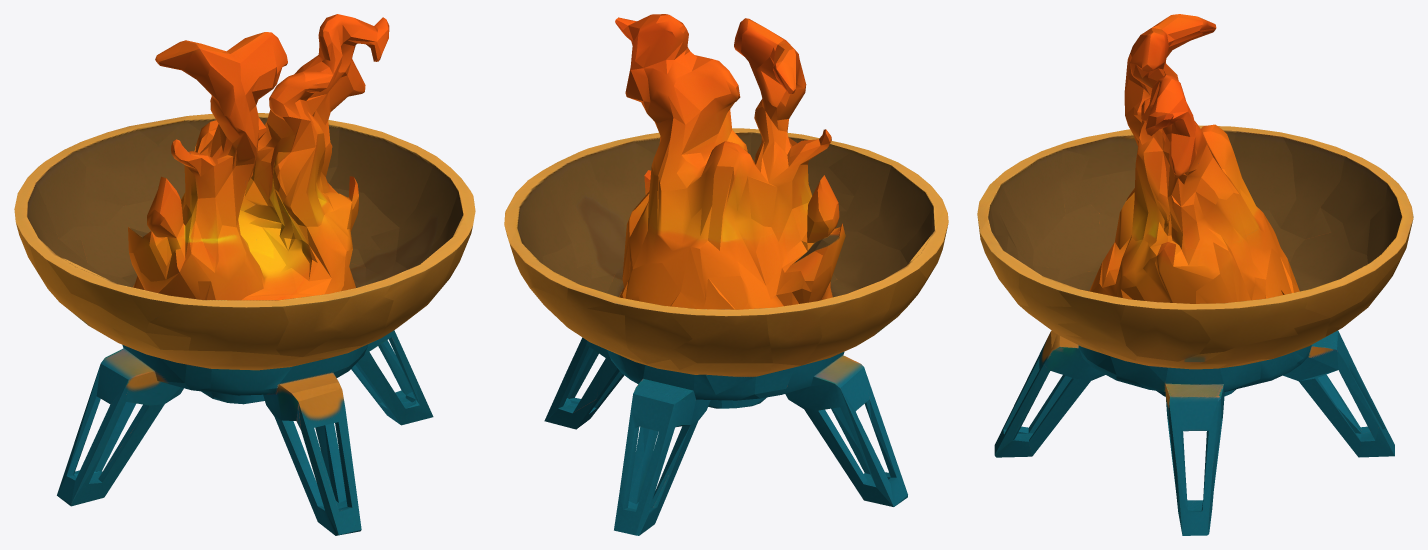
The model's file is brazier.glb.
3 renders of one model, left to right at view 1: azimuth 30°, elevation 25°; view 2: azimuth 150°, elevation 25°; view 3: azimuth 270°, elevation 25°, orthographic. The views are drawn at different scales.
Bounding box in the file's own units: 1.79 × 1.9 × 1.79.
1 material, 1 textured.
